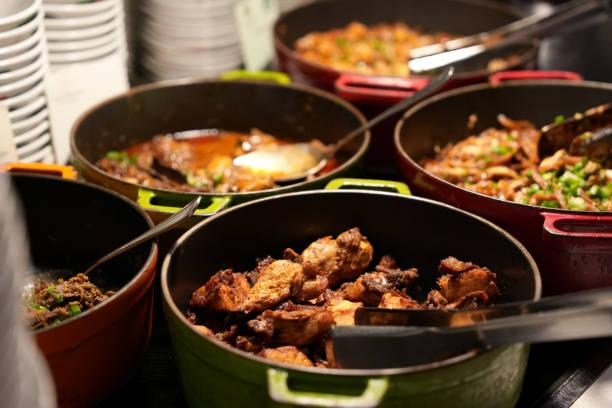Braised Crucian Carp: (158, 186, 537, 406), (70, 77, 370, 240), (395, 79, 609, 222)
